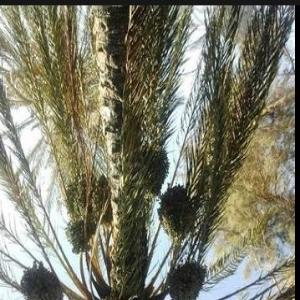palm tree: (0, 3, 295, 299)
